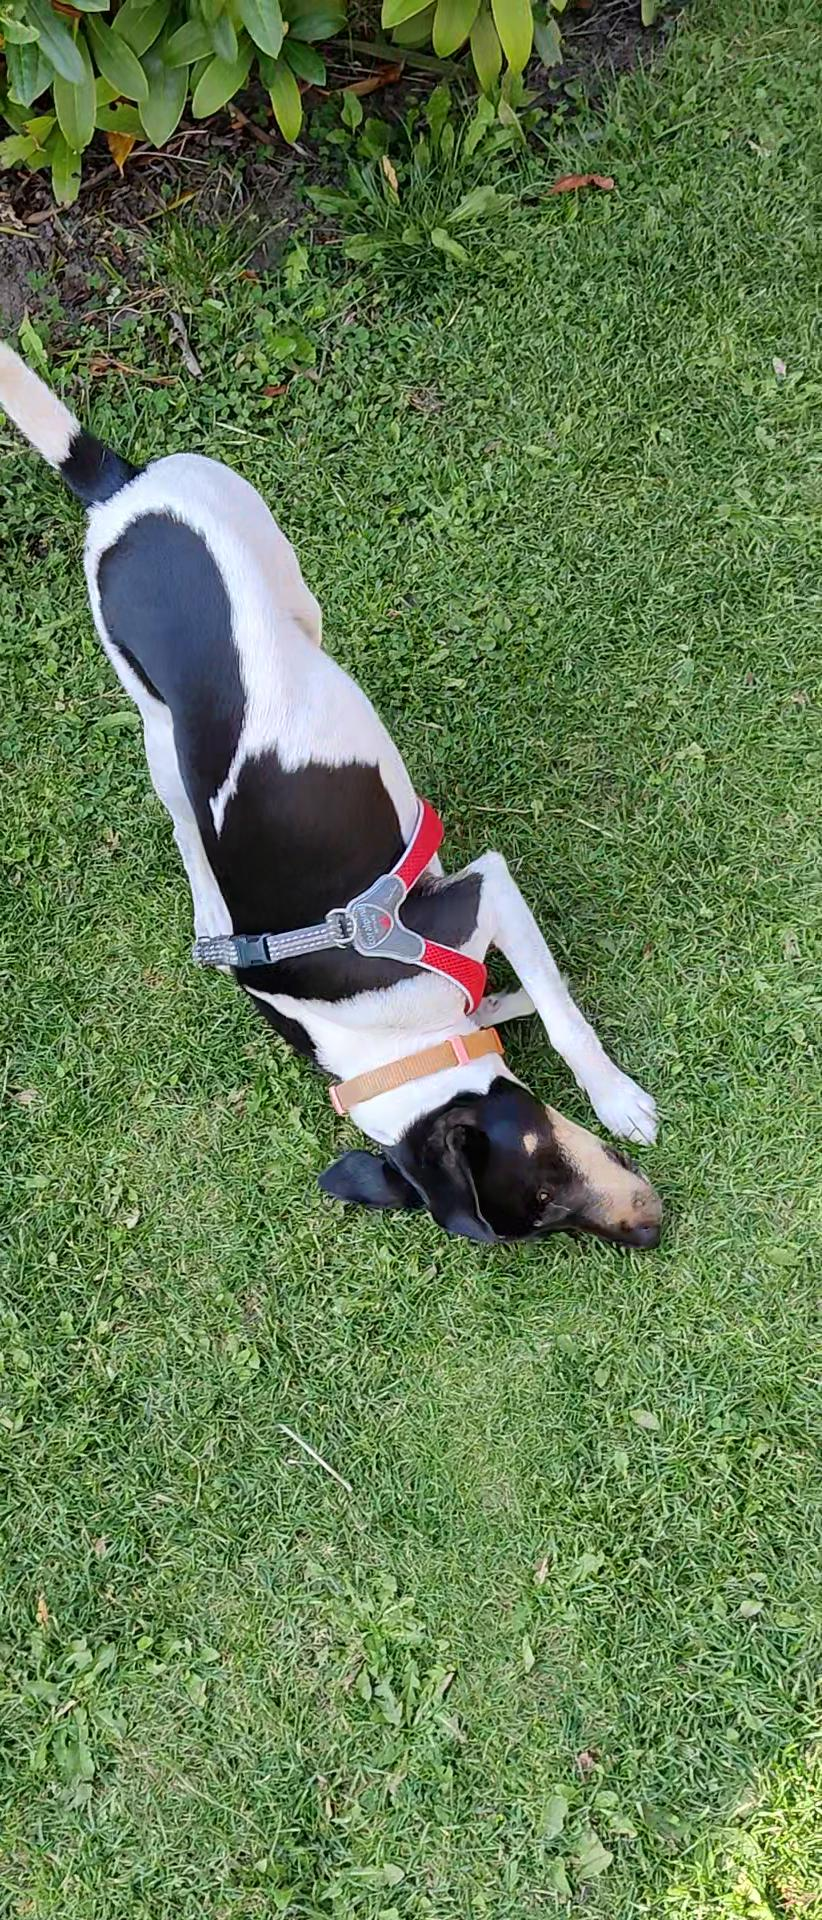Dog: (0, 331, 695, 1284)
